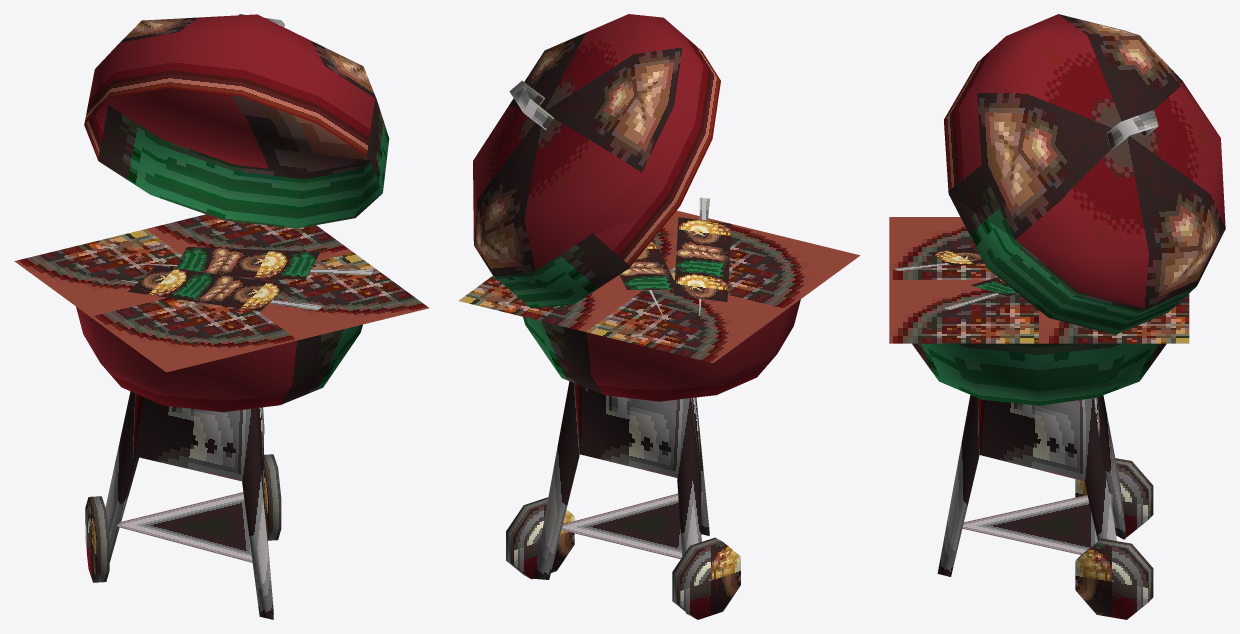
File: int_gdn_barbecue.dae
3 renders of one model, left to right at view 1: azimuth 30°, elevation 25°; view 2: azimuth 150°, elevation 25°; view 3: azimuth 270°, elevation 25°, orthographic. The views are drawn at different scales.
Visible parts, largest first — view 1: int_gdn_barbecue; view 2: int_gdn_barbecue; view 3: int_gdn_barbecue.
Part boxes in pixels (bbox=[...]): int_gdn_barbecue: bbox=[14, 14, 429, 619]; int_gdn_barbecue: bbox=[459, 14, 860, 619]; int_gdn_barbecue: bbox=[889, 14, 1225, 619].
Bounding box in the file's own units: 25.35 × 46 × 25.35.
2 materials, 2 textured.
